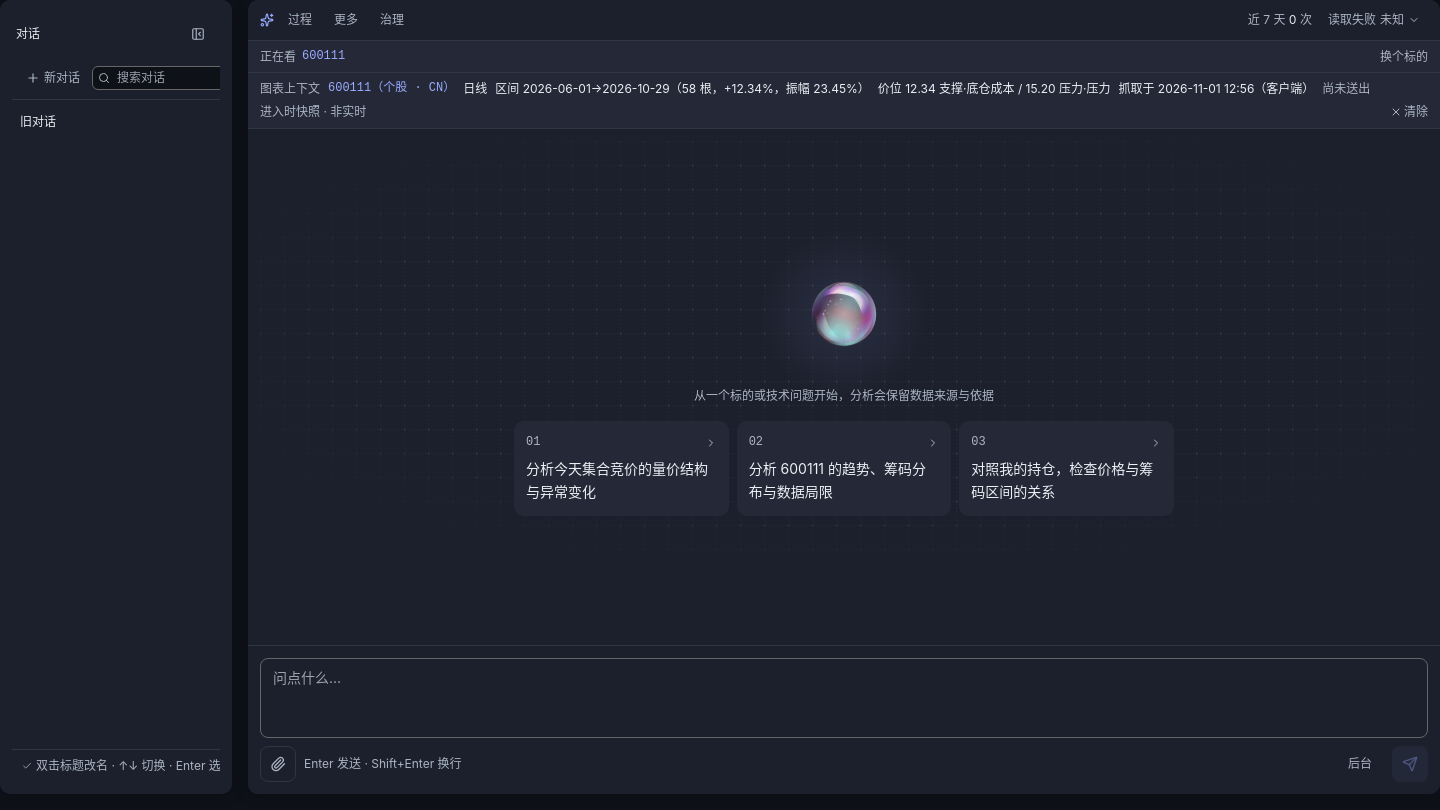
Test: 首问之后清除：后端不能再读旧快照 › 首问之后点「换标的」不会把 chip 藏起来假装没了；旧会话仍带快照需明说
Check: the element with test id "copilot-chart-context" is shown, box [248,73,1439,129]
Check: the button named "发送" is shown, box [1392,746,1428,782]
Type "先看看 600111" into the text box with placeholder "问点什么…" at coordinates (844, 698), box [260,658,1428,738]
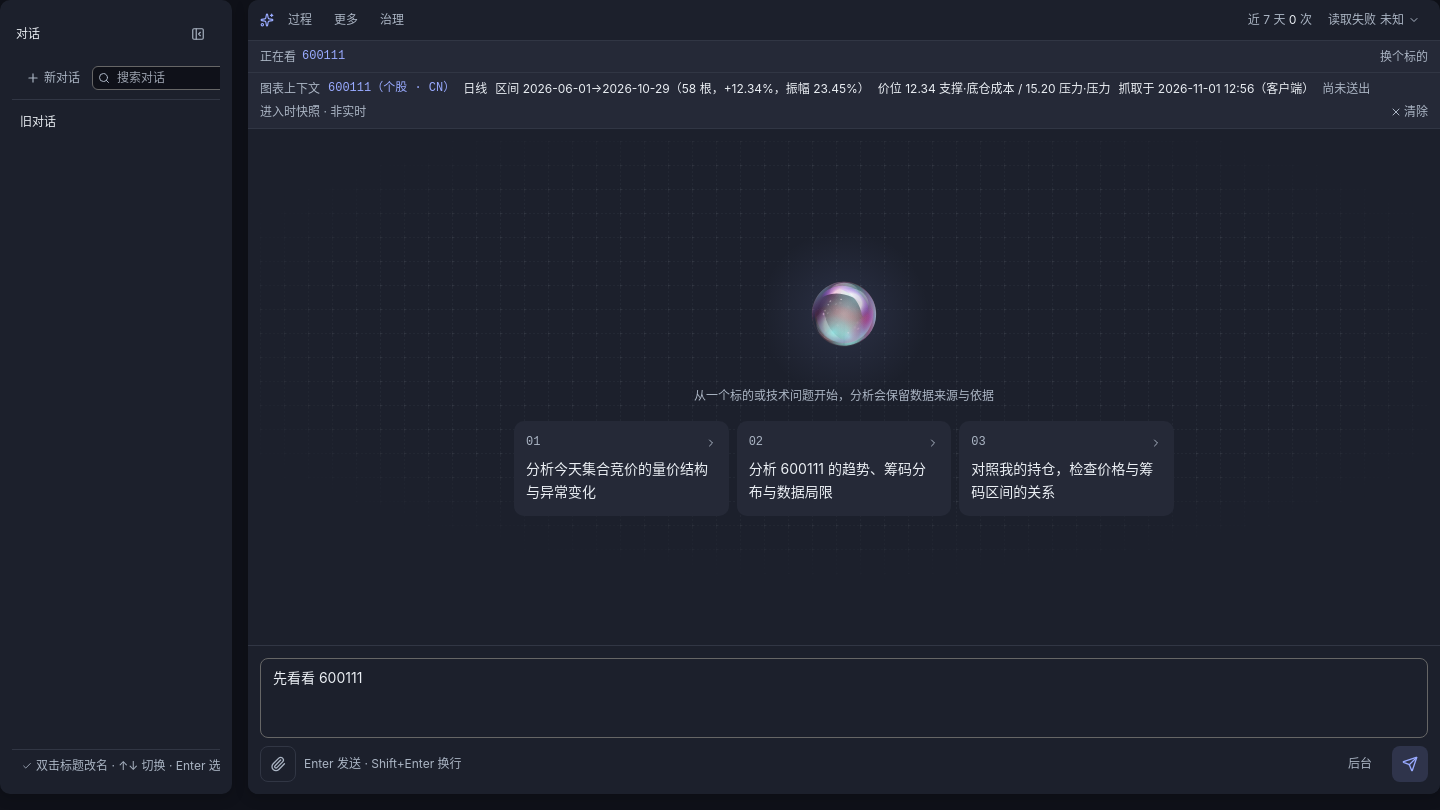
Click the button named "发送" at coordinates (1410, 764), box [1392,746,1428,782]
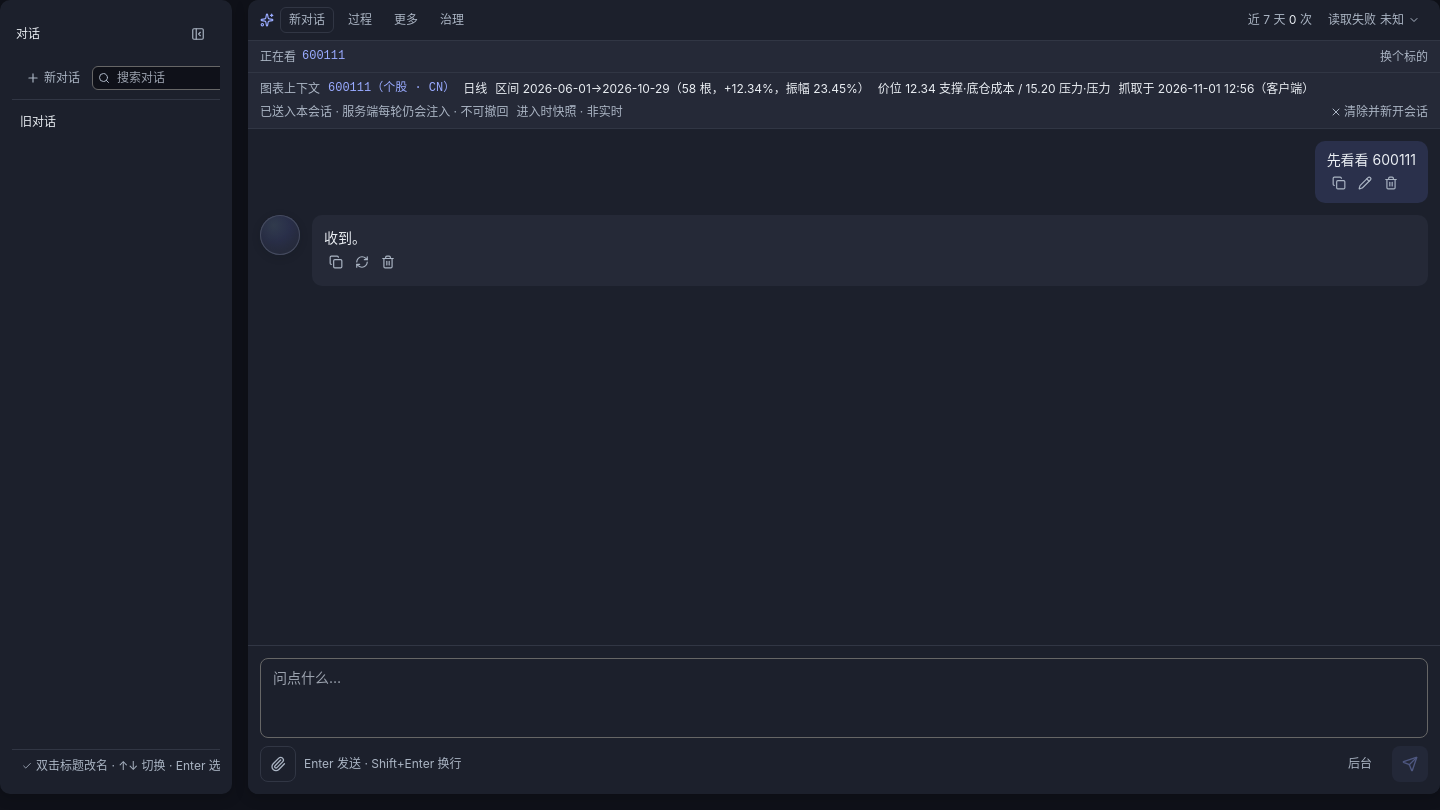
Click the button "换个标的" at coordinates (1404, 57), box [1380,47,1428,66]
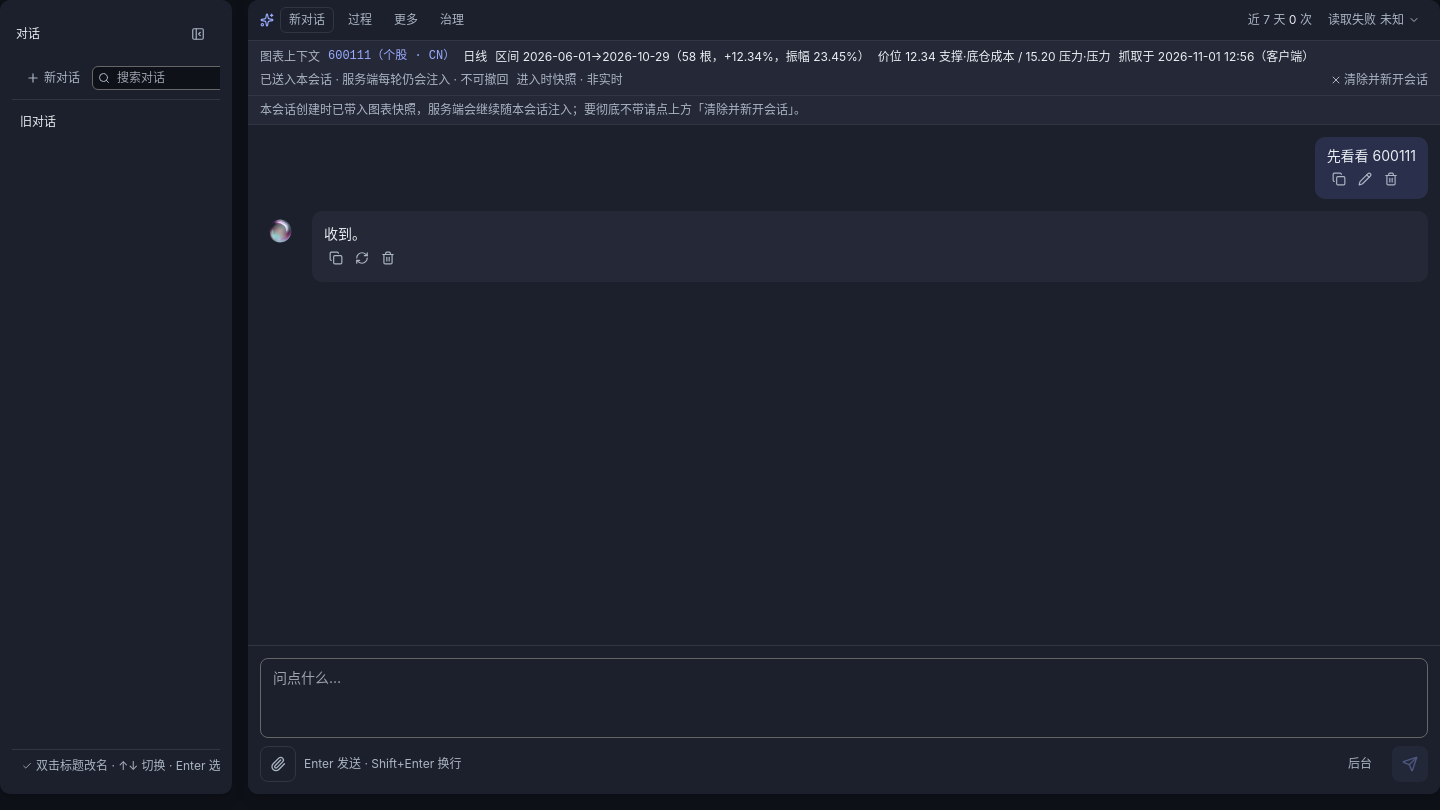
Check: the element with test id "copilot-chart-context" is shown, box [248,41,1439,96]
Check: the text with test id "copilot-chart-context-notice" shows "本会话", box [248,96,1439,125]
